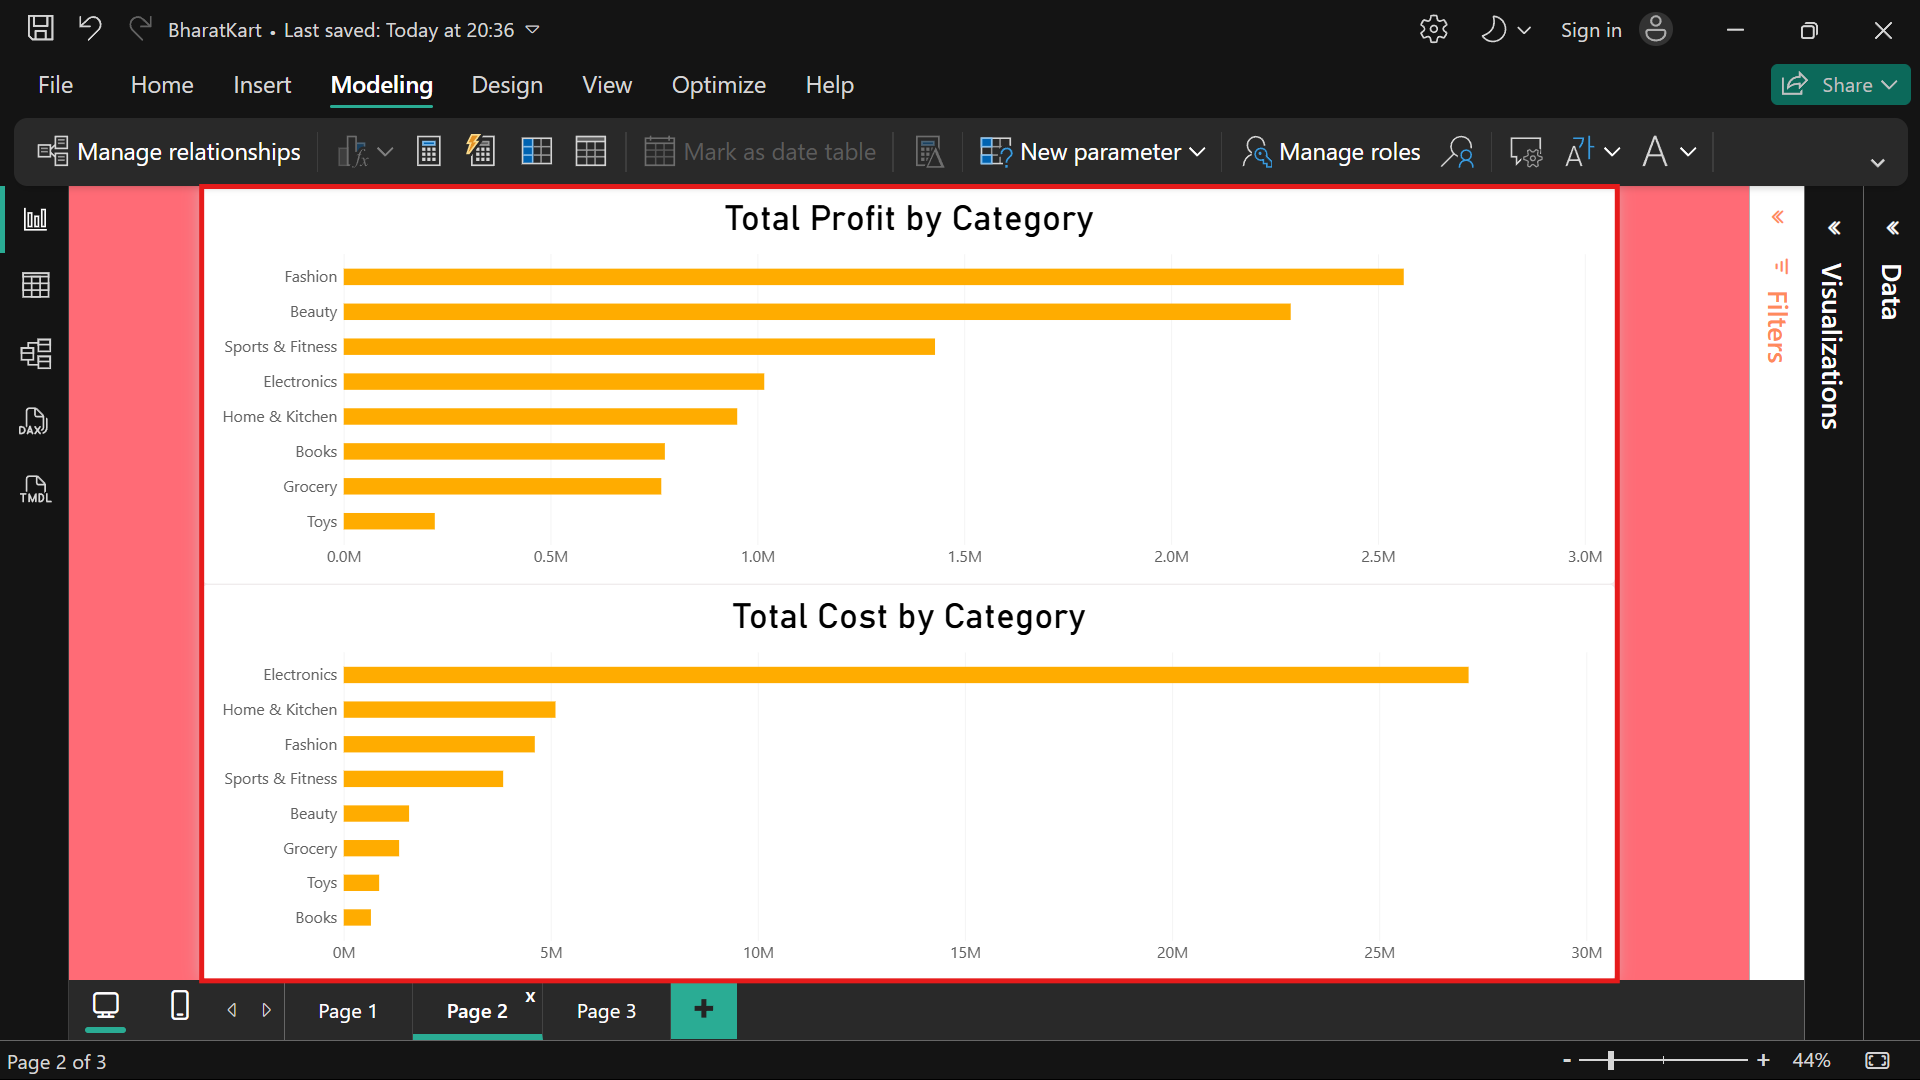

The dashboard page shown, as its layout file describes it:
{"tool":"powerbi","page":{"name":"Page 2","canvas":[1920,1080],"ordinal":1},"visuals":[{"type":"clusteredBarChart","title":"Total Profit by Category","fields":{"Category":["bharatkart products.category"],"Y":["bharatkart customers.Gross Profit"]},"box":[0,0,1920.6,541.2],"z":0},{"type":"clusteredBarChart","title":"Total Cost by Category","fields":{"Category":["bharatkart products.category"],"Y":["bharatkart customers.Total Cost"]},"box":[0,541.2,1920.6,538.2],"z":1000}]}

Visuals, with their boxes on the page's 1920x1080 design canvas (x1, y1, x2, y2). These are canvas units, not pixel positions in the 1920x1080 screenshot, which may show the page scaled, cropped or inside an application window:
"Total Profit by Category" clusteredBarChart: [x1=0, y1=0, x2=1921, y2=541]
"Total Cost by Category" clusteredBarChart: [x1=0, y1=541, x2=1921, y2=1079]
